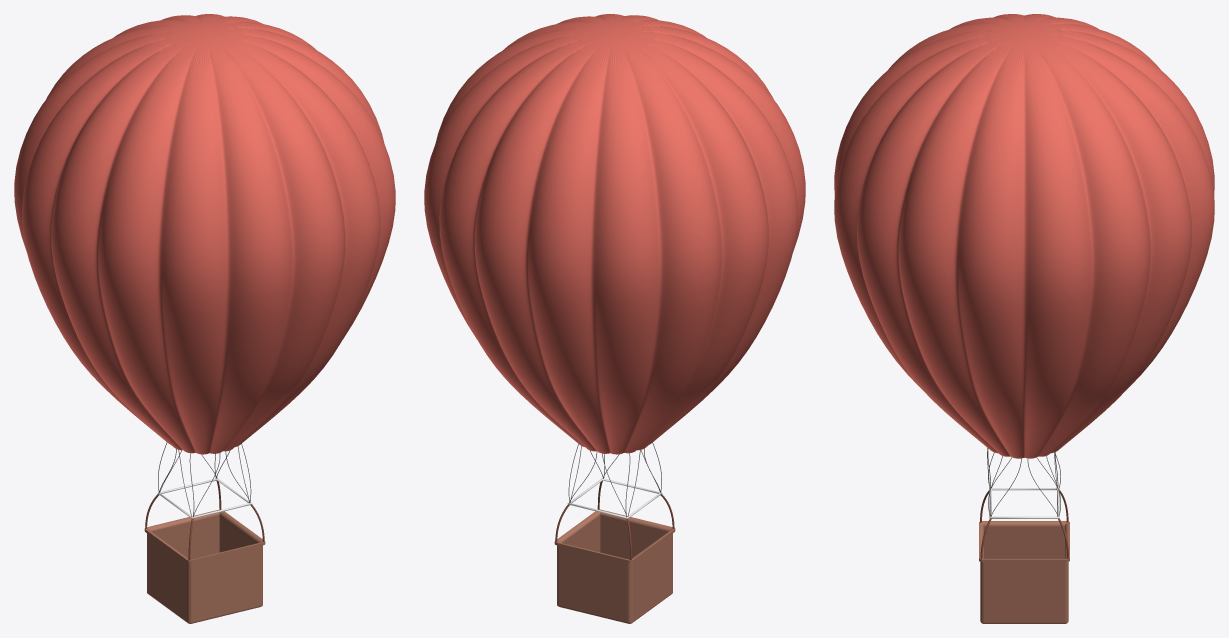
The model's file is montgolfiere.fbx.
3 views of the same model, side by side, from view 1: azimuth 30°, elevation 25°; view 2: azimuth 150°, elevation 25°; view 3: azimuth 270°, elevation 25° (orthographic).
Parts seen in each view (by area): view 1: Cycloid, Cube.012, NurbsPath.013, Rectangle.001; view 2: Cycloid, Cube.012, NurbsPath.013, Rectangle.001; view 3: Cycloid, Cube.012, NurbsPath.013, Rectangle.001.
Boxes of the visible parts, left/top/right/bottom form: Cycloid: left=14, top=14, right=395, bottom=454; Cube.012: left=144, top=509, right=265, bottom=623; NurbsPath.013: left=158, top=442, right=251, bottom=517; Rectangle.001: left=157, top=478, right=252, bottom=518; Cycloid: left=424, top=14, right=805, bottom=454; Cube.012: left=554, top=509, right=675, bottom=623; NurbsPath.013: left=568, top=442, right=661, bottom=517; Rectangle.001: left=567, top=478, right=662, bottom=518; Cycloid: left=834, top=14, right=1214, bottom=458; Cube.012: left=979, top=521, right=1069, bottom=623; NurbsPath.013: left=987, top=448, right=1060, bottom=516; Rectangle.001: left=989, top=488, right=1059, bottom=518.
Size of the model in its own units: 1160 by 1931 by 1160.
